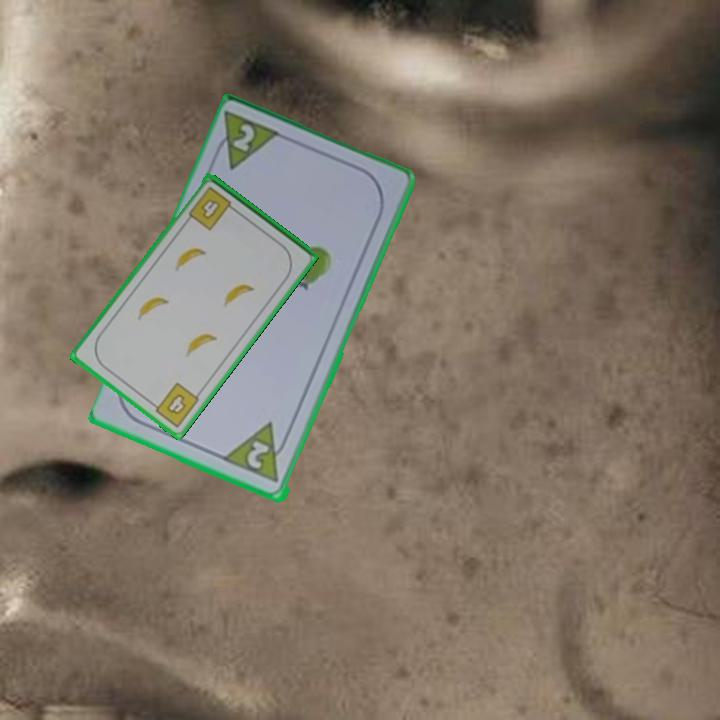2p: (243, 437, 273, 473), (229, 120, 258, 156)
4b: (147, 379, 202, 431), (185, 183, 240, 234)
